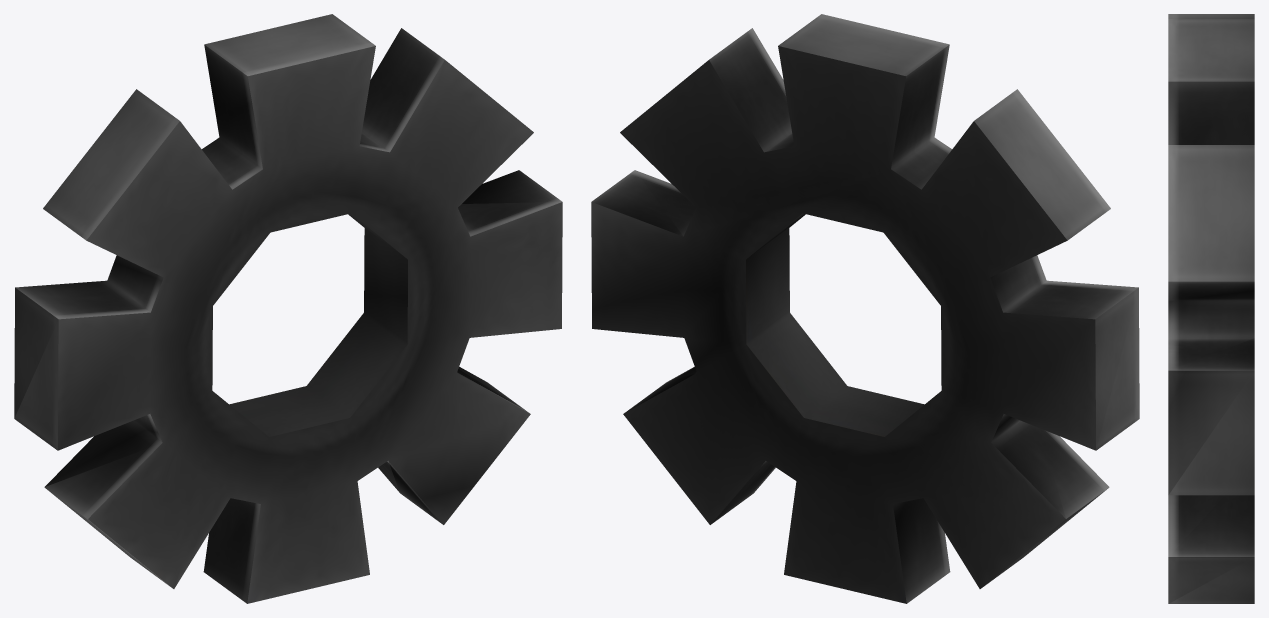
File: gear.glb
3 renders of one model, left to right at view 1: azimuth 30°, elevation 25°; view 2: azimuth 150°, elevation 25°; view 3: azimuth 270°, elevation 25°, orthographic.
Parts seen in each view (by area): view 1: group1; view 2: group1; view 3: group1.
Part boxes in pixels (bbox=[...]): group1: bbox=[14, 14, 562, 603]; group1: bbox=[591, 14, 1139, 603]; group1: bbox=[1168, 14, 1254, 603].
Size of the model in its own units: 13.45 by 13.45 by 2.01.
2 materials, 2 textured.
